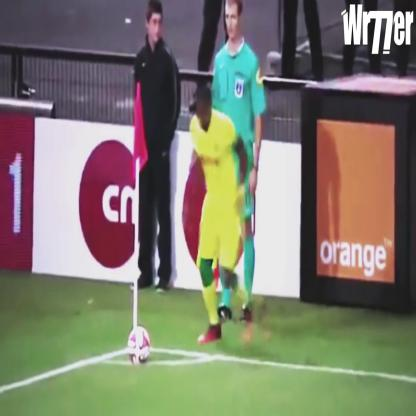corner kick: (116, 70, 243, 402)
